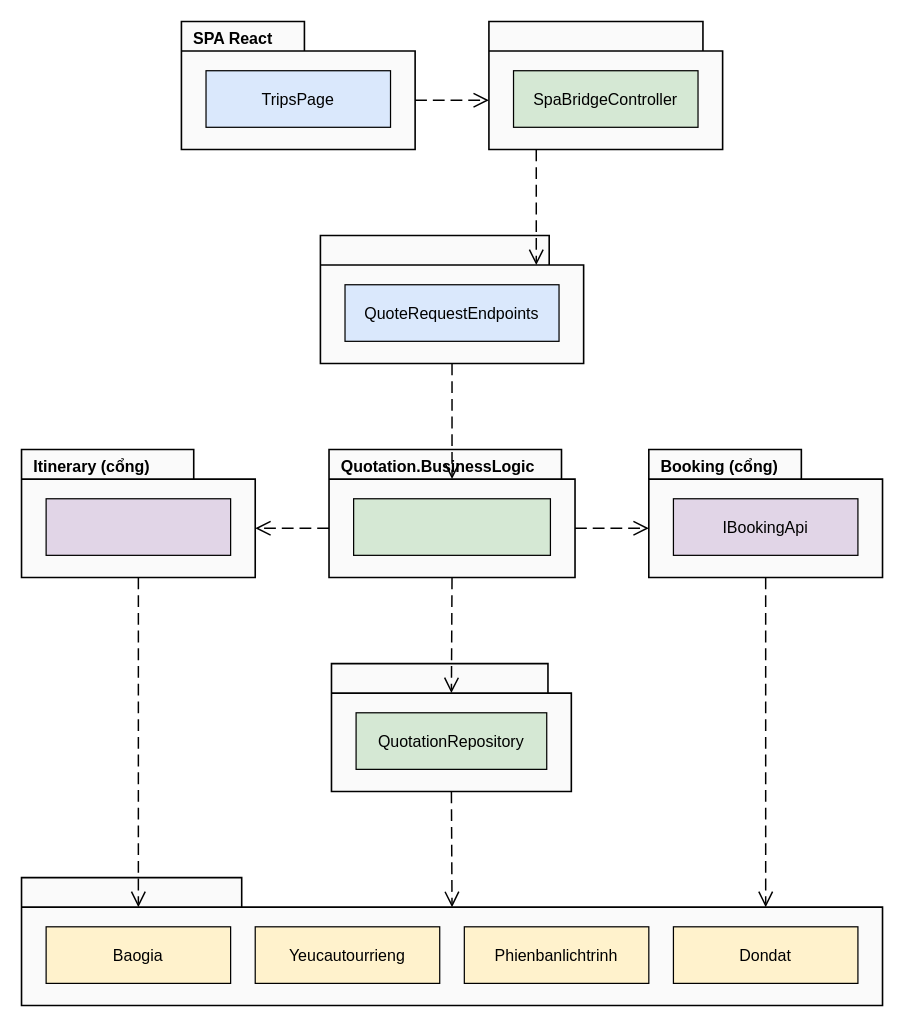
The diagram is 905 pixels wide and 1028 high, and some of its shapes have lost their labels. Here are the shapes that lost their labels. From the top down, the box of each, then its label:
(488, 20, 723, 150): DongNamTrip.Web (BFF)
(319, 234, 584, 364): Quotation.Presentation
(45, 498, 231, 555): IItineraryApi
(352, 498, 550, 555): QuoteRequestService
(330, 662, 572, 792): Quotation.DataAccess
(20, 876, 883, 1006): Persistence (EF Core)
